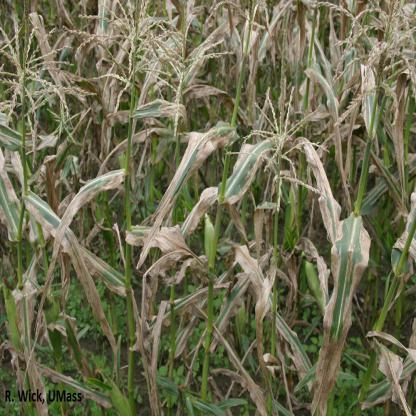Corn leaf blight: (29, 171, 125, 360), (308, 212, 376, 413), (143, 124, 233, 260), (304, 66, 356, 215), (294, 134, 344, 282), (254, 256, 276, 414), (12, 283, 45, 388), (132, 92, 196, 127)
